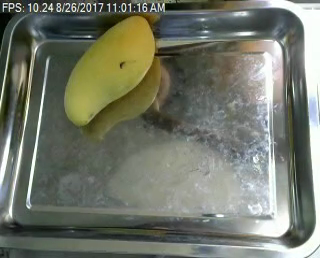Mango: (63, 15, 156, 130)
